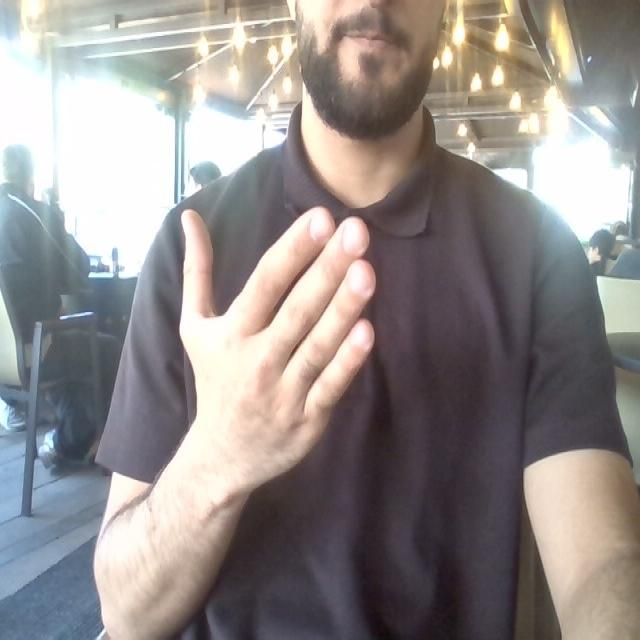Hand: (180, 208, 374, 491)
